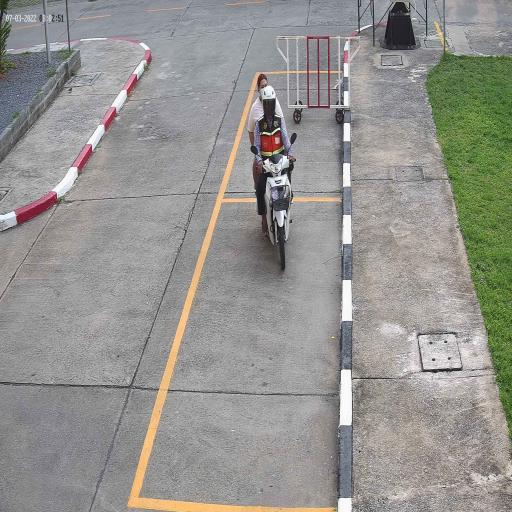motorcycle: (263, 152, 291, 271)
